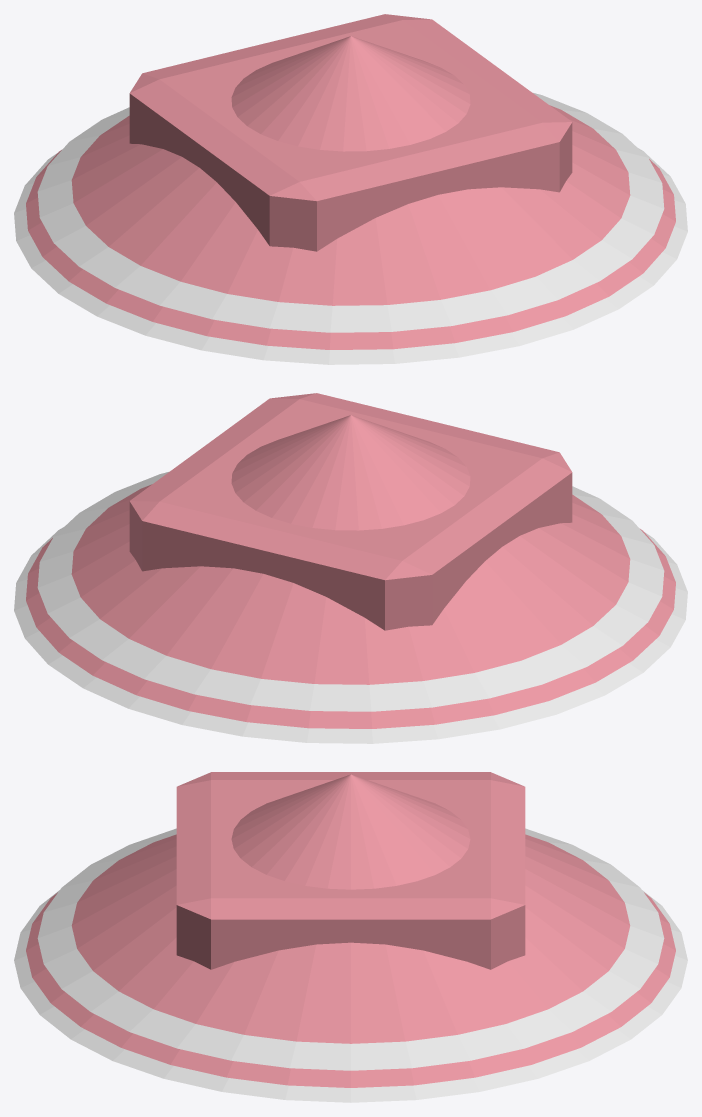
The model's file is Tutu.fbx.
The picture shows the model from 3 angles, top to bottom: view 1: azimuth 30°, elevation 25°; view 2: azimuth 150°, elevation 25°; view 3: azimuth 270°, elevation 25°; orthographic projection.
Parts seen in each view (by area): view 1: Tutu; view 2: Tutu; view 3: Tutu.
Boxes of the visible parts, bbox=[...] form: Tutu: bbox=[14, 14, 687, 364]; Tutu: bbox=[14, 393, 687, 743]; Tutu: bbox=[14, 772, 687, 1102].
Size of the model in its own units: 400 by 122 by 400.
